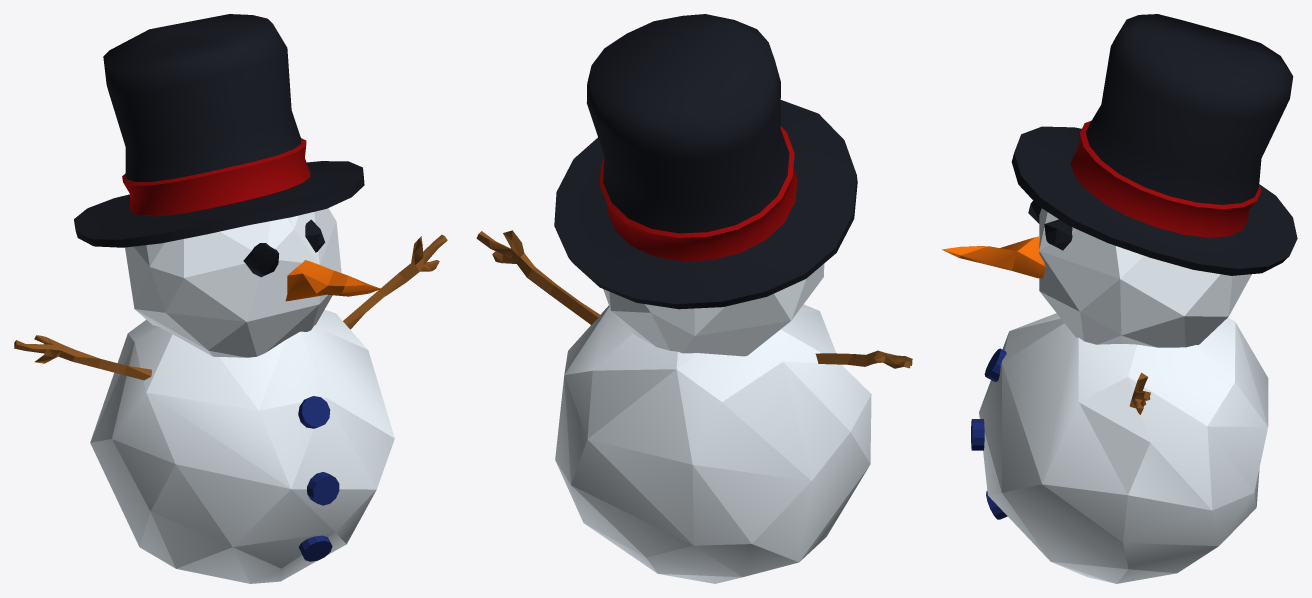
Rendered from PROP_Ice_Snowman01.FBX.
The picture shows the model from 3 angles, left to right: view 1: azimuth 30°, elevation 25°; view 2: azimuth 150°, elevation 25°; view 3: azimuth 270°, elevation 25°; orthographic projection. The views are drawn at different scales.
Parts seen in each view (by area): view 1: PROP_Ice_Snowman01_Body, PROP_Ice_Snowman01_Hat, PROP_Ice_Snowman01_Head, PROP_Ice_Snowman01_RightHand, PROP_Ice_Snowman01_LeftHand; view 2: PROP_Ice_Snowman01_Hat, PROP_Ice_Snowman01_Body, PROP_Ice_Snowman01_Head, PROP_Ice_Snowman01_LeftHand, PROP_Ice_Snowman01_RightHand; view 3: PROP_Ice_Snowman01_Body, PROP_Ice_Snowman01_Hat, PROP_Ice_Snowman01_Head, PROP_Ice_Snowman01_LeftHand.
Part boxes in pixels (<box>): PROP_Ice_Snowman01_Body: <box>90,309,394,583</box>; PROP_Ice_Snowman01_Hat: <box>74,14,364,247</box>; PROP_Ice_Snowman01_Head: <box>125,208,380,357</box>; PROP_Ice_Snowman01_RightHand: <box>14,335,151,380</box>; PROP_Ice_Snowman01_LeftHand: <box>343,234,447,329</box>; PROP_Ice_Snowman01_Hat: <box>554,14,857,309</box>; PROP_Ice_Snowman01_Body: <box>555,304,871,583</box>; PROP_Ice_Snowman01_Head: <box>603,264,824,356</box>; PROP_Ice_Snowman01_LeftHand: <box>476,230,599,324</box>; PROP_Ice_Snowman01_RightHand: <box>815,350,912,368</box>; PROP_Ice_Snowman01_Body: <box>971,313,1268,583</box>; PROP_Ice_Snowman01_Hat: <box>1011,14,1297,275</box>; PROP_Ice_Snowman01_Head: <box>942,201,1251,347</box>; PROP_Ice_Snowman01_LeftHand: <box>1129,372,1150,414</box>.
Size of the model in its own units: 99.92 by 119 by 72.43.
Materials: 1 (1 with a texture image).
